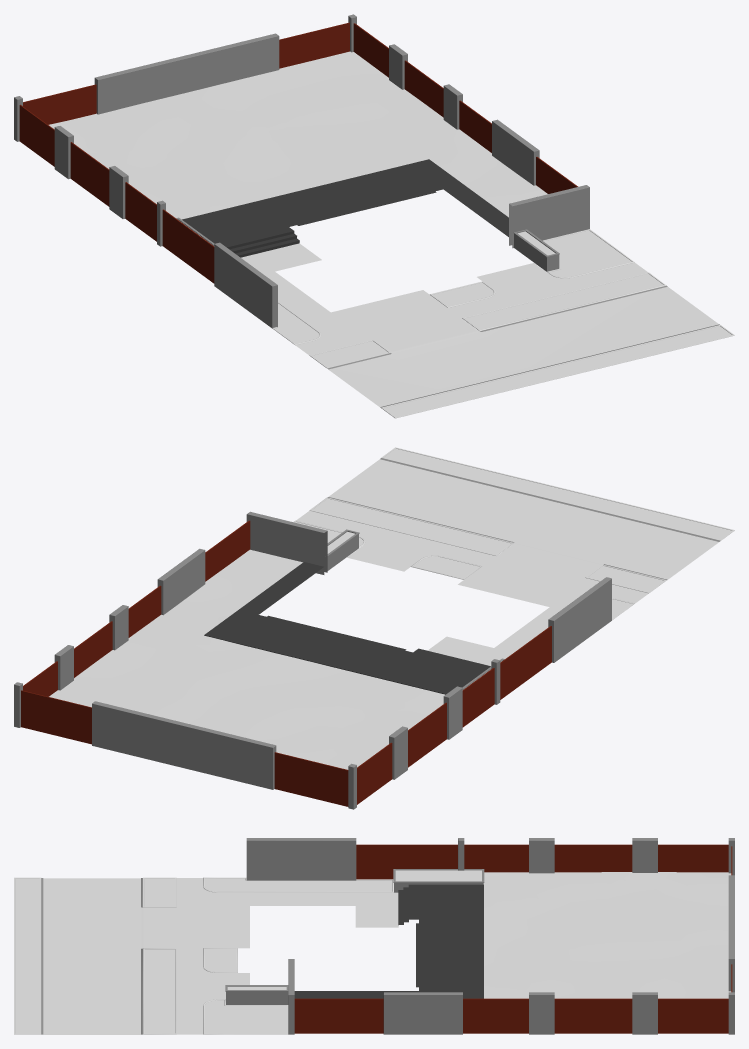
File: Landscape.FBX
3 renders of one model, top to bottom at view 1: azimuth 30°, elevation 25°; view 2: azimuth 150°, elevation 25°; view 3: azimuth 270°, elevation 25°, orthographic. The views are drawn at different scales.
Visible parts, largest first — view 1: Grass (×2), Asphalt, Backyard_WoodFence, Sidewalk_01, Backyard_Patio, Backyard_ConcreteFence_02, Backyard_ConcreteFence_01, Backyard_ConcreteFence_03, Backyard_Stairs, Curb_Concrete, CurbStreet, FrontEntrance_Planter; view 2: Grass (×2), Asphalt, Backyard_WoodFence, Backyard_ConcreteFence_02, Backyard_Patio, Sidewalk_01, Backyard_ConcreteFence_01, Backyard_ConcreteFence_03, Backyard_Stairs, Curb_Concrete, CurbStreet, FrontEntrance_Planter; view 3: Grass (×3), Backyard_WoodFence, Asphalt, Sidewalk_01, Backyard_ConcreteFence_03, Backyard_ConcreteFence_01, Backyard_Patio, Backyard_Stairs, Curb_Concrete, FrontEntrance_Planter, Backyard_ConcreteFence_02, CurbStreet (+1 smaller).
Part boxes in pixels (<box>): Grass (×2): <box>49,51,731,416</box>; Asphalt: <box>328,287,718,406</box>; Backyard_WoodFence: <box>19,22,577,283</box>; Sidewalk_01: <box>241,243,647,355</box>; Backyard_Patio: <box>255,159,508,236</box>; Backyard_ConcreteFence_02: <box>94,33,279,114</box>; Backyard_ConcreteFence_01: <box>348,14,589,248</box>; Backyard_ConcreteFence_03: <box>14,96,277,328</box>; Backyard_Stairs: <box>182,202,299,257</box>; Curb_Concrete: <box>272,229,734,418</box>; CurbStreet: <box>327,285,719,407</box>; FrontEntrance_Planter: <box>514,229,559,271</box>; Grass (×2): <box>49,448,731,769</box>; Asphalt: <box>328,459,718,606</box>; Backyard_WoodFence: <box>21,520,551,806</box>; Backyard_ConcreteFence_02: <box>92,701,276,789</box>; Backyard_Patio: <box>204,562,412,678</box>; Sidewalk_01: <box>296,510,648,665</box>; Backyard_ConcreteFence_01: <box>14,511,327,727</box>; Backyard_ConcreteFence_03: <box>348,577,611,809</box>; Backyard_Stairs: <box>379,648,490,694</box>; Curb_Concrete: <box>293,447,734,620</box>; CurbStreet: <box>328,458,720,579</box>; FrontEntrance_Planter: <box>327,529,359,570</box>; Grass (×3): <box>15,870,731,1033</box>; Backyard_WoodFence: <box>294,844,732,1033</box>; Asphalt: <box>43,878,249,1034</box>; Sidewalk_01: <box>176,878,398,1034</box>; Backyard_ConcreteFence_03: <box>246,838,734,880</box>; Backyard_ConcreteFence_01: <box>288,959,734,1034</box>; Backyard_Patio: <box>294,919,483,998</box>; Backyard_Stairs: <box>398,884,483,925</box>; Curb_Concrete: <box>14,877,393,1034</box>; FrontEntrance_Planter: <box>225,985,288,1004</box>; Backyard_ConcreteFence_02: <box>728,875,734,992</box>; CurbStreet: <box>41,878,142,1034</box>.
Size of the model in its own units: 24.25 by 2.89 by 47.1.
